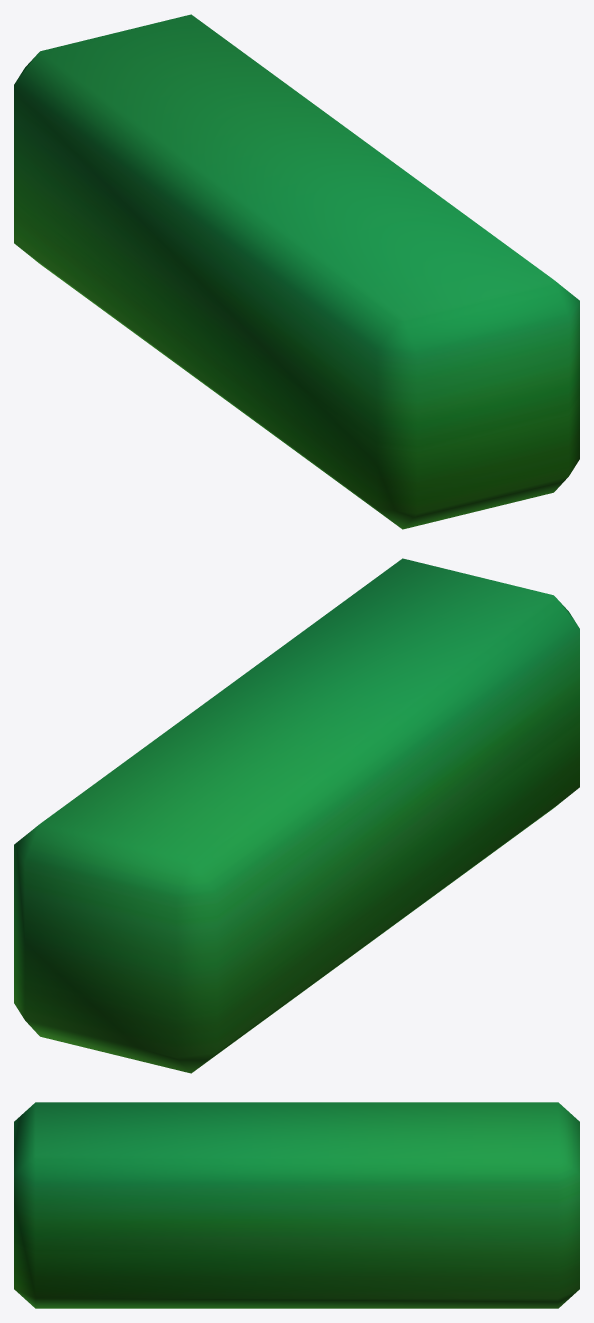
File: Bush_1_A_2.fbx
3 renders of one model, top to bottom at view 1: azimuth 30°, elevation 25°; view 2: azimuth 150°, elevation 25°; view 3: azimuth 270°, elevation 25°, orthographic. The views are drawn at different scales.
Visible parts, largest first — view 1: Bush_1_A_2; view 2: Bush_1_A_2; view 3: Bush_1_A_2.
Part boxes in pixels (left/top/right/bottom): Bush_1_A_2: left=14, top=14, right=579, bottom=529; Bush_1_A_2: left=14, top=558, right=579, bottom=1073; Bush_1_A_2: left=14, top=1102, right=579, bottom=1308.
Size of the model in its own units: 61.94 by 61.94 by 207.
